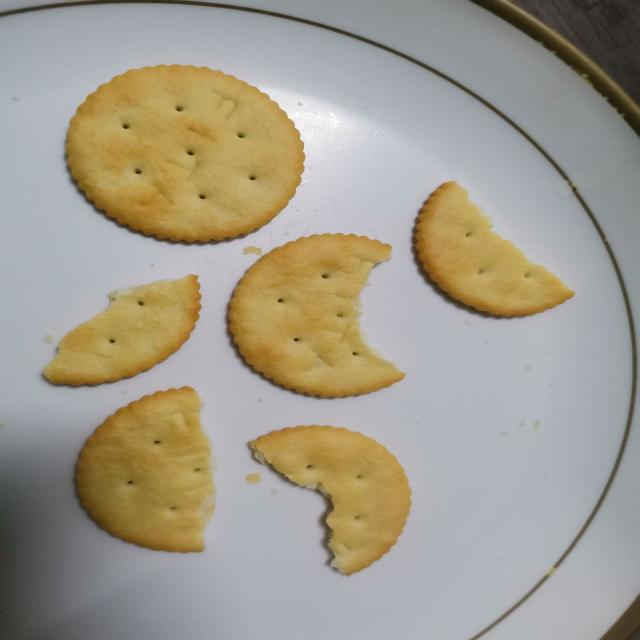broken biscuit: (225, 231, 406, 399), (246, 422, 413, 576), (72, 385, 217, 553), (410, 179, 574, 319), (40, 272, 203, 387)
intact biscuit: (62, 62, 306, 243)
